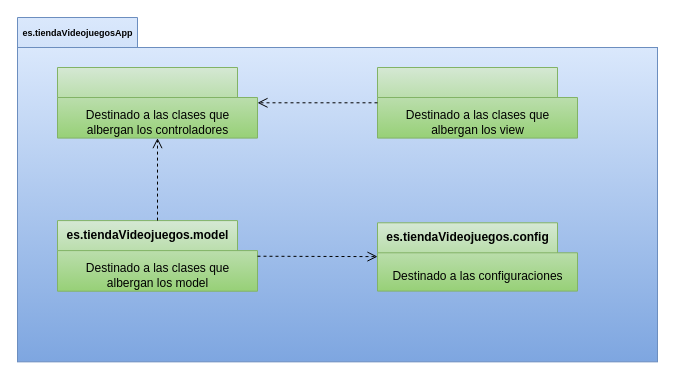
This 675x380 diagram has some shape labels left out. Here are the shapes that lost their labels. From the top down, the centre of each, then its label:
At pixel 157 102: "es.tiendaVideojuegos.controller".
At pixel 477 102: "es.tiendaVideojuegos.view".
